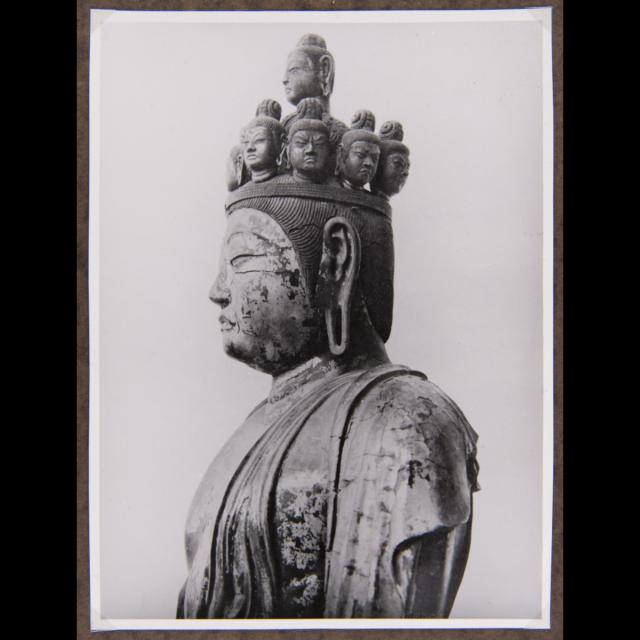buddha-sitting: (164, 16, 493, 622)
